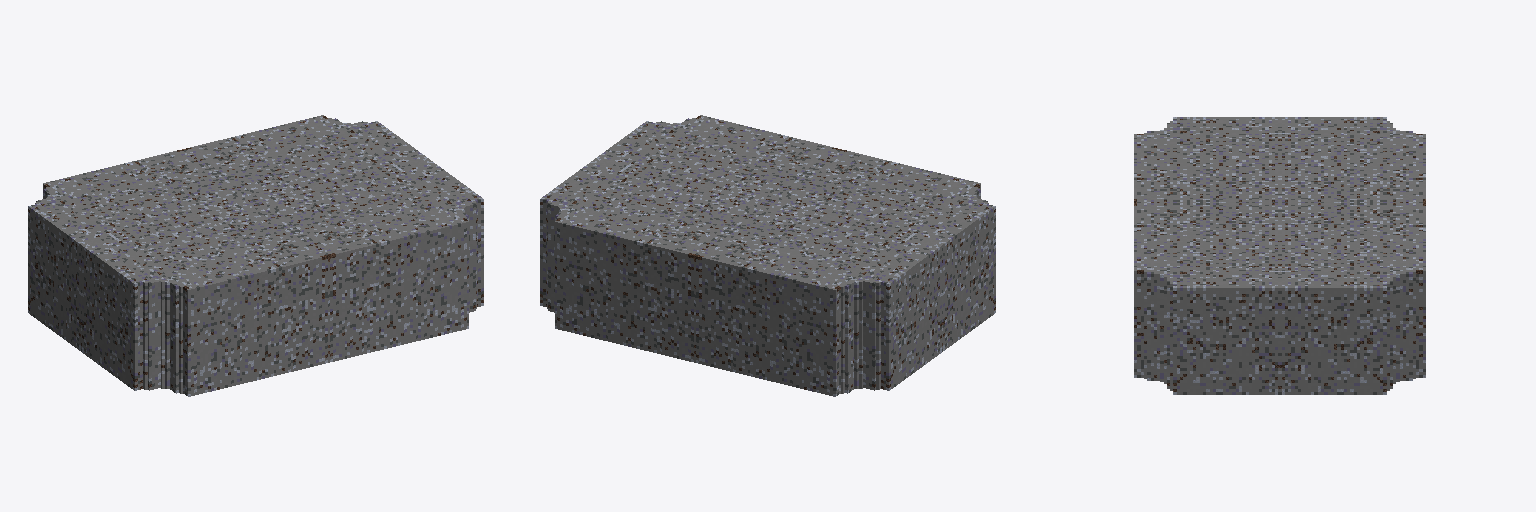
3 renders of one model, left to right at view 1: azimuth 30°, elevation 25°; view 2: azimuth 150°, elevation 25°; view 3: azimuth 270°, elevation 25°, orthographic.
Size of the model in its own units: 123 by 36 by 89.
20 materials, 9 textured.